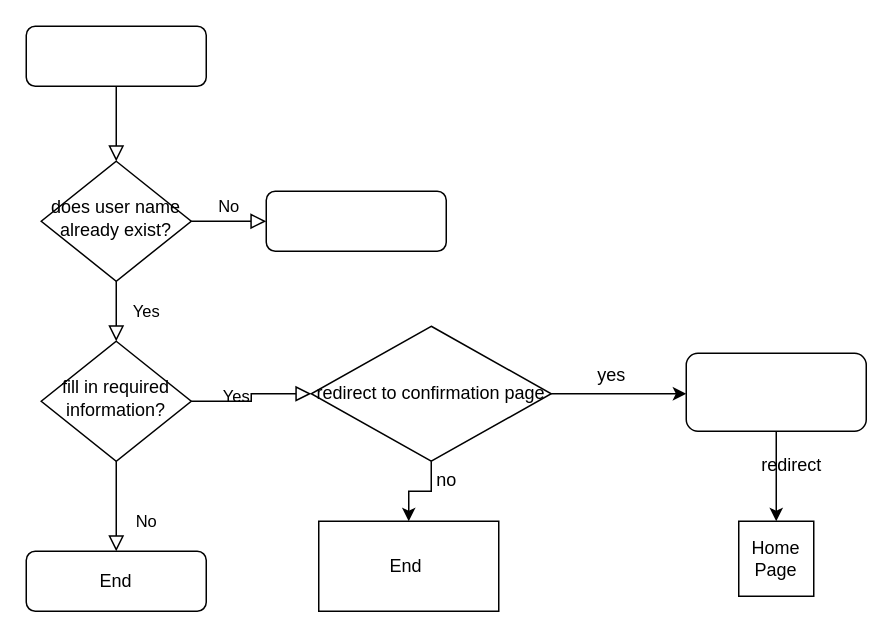
Image size: 893x638. Some labels were removed from this diagram. Each missing label, with the box of its shape:
redirect to login page: (265, 190, 446, 251)
successful registration: (685, 352, 866, 431)
User Registration: (25, 25, 206, 86)
